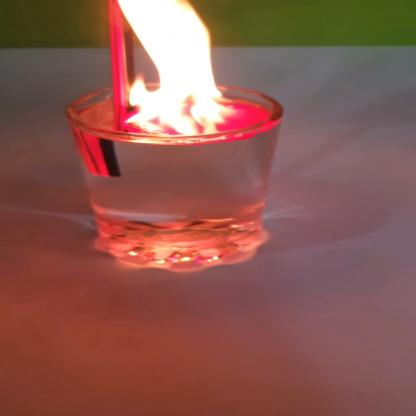Fire: (94, 0, 233, 134)
